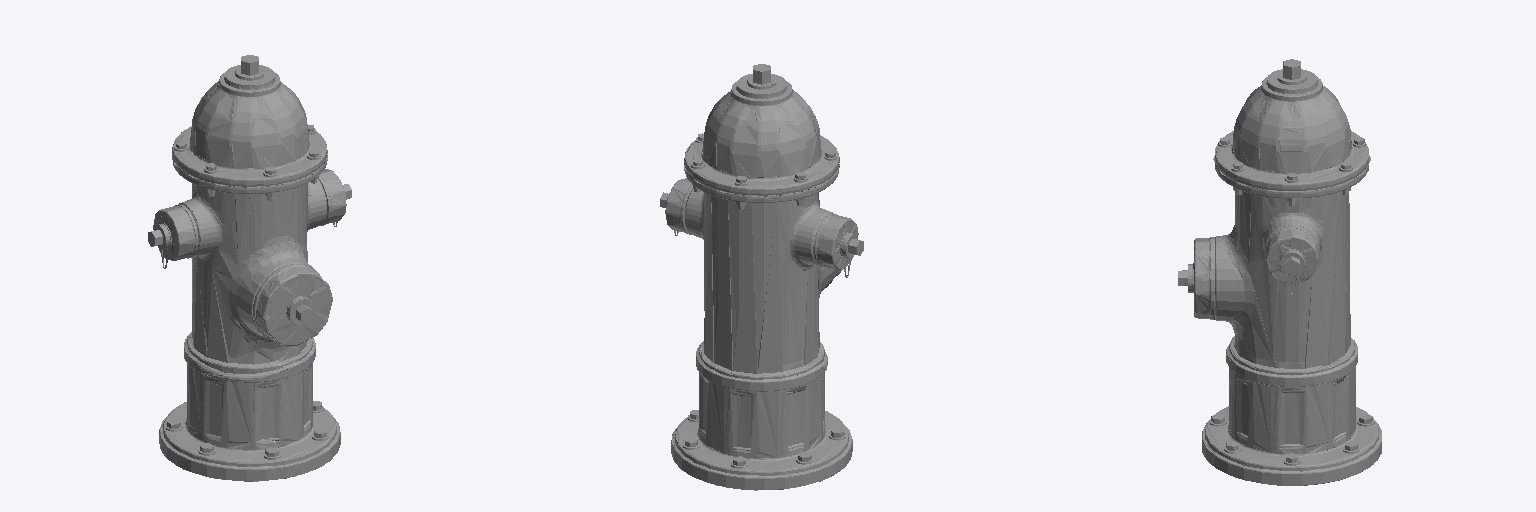
File: FireHydrant.obj
3 views of the same model, side by side, from view 1: azimuth 30°, elevation 25°; view 2: azimuth 150°, elevation 25°; view 3: azimuth 270°, elevation 25° (orthographic).
Visible parts, largest first — view 1: Fire_Hydrant_polySurface198.001; view 2: Fire_Hydrant_polySurface198.001; view 3: Fire_Hydrant_polySurface198.001.
Boxes of the visible parts, <box> form: Fire_Hydrant_polySurface198.001: <box>148,55,351,481</box>; Fire_Hydrant_polySurface198.001: <box>660,64,863,490</box>; Fire_Hydrant_polySurface198.001: <box>1178,59,1381,485</box>.
Bounding box in the file's own units: 0.535 × 1 × 0.4817.